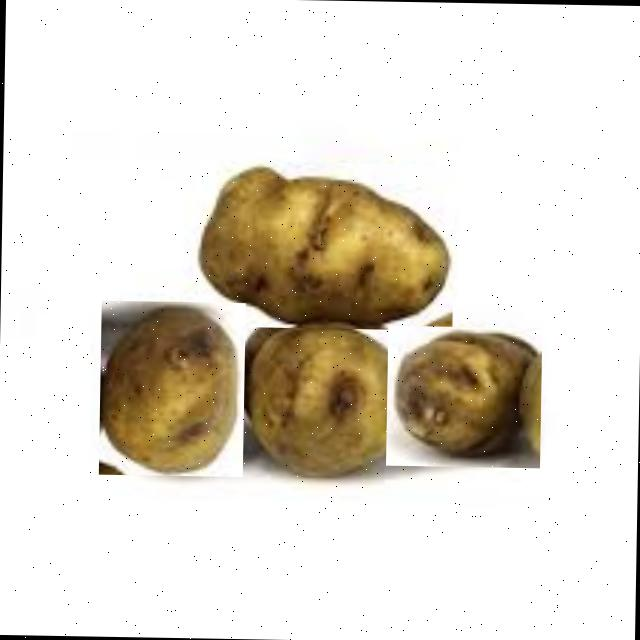Diseased-fungal potato: (194, 160, 455, 330), (98, 300, 245, 477), (245, 317, 406, 478), (386, 325, 542, 468)
